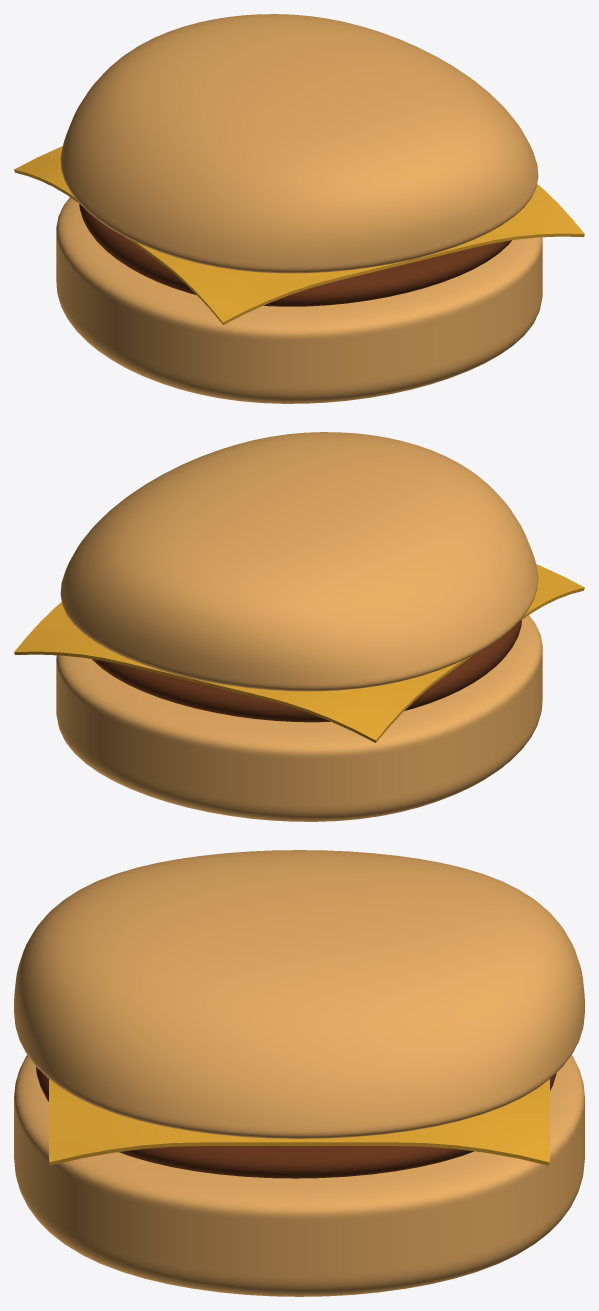
Rendered from hamburger.glb.
The picture shows the model from 3 angles, top to bottom: view 1: azimuth 30°, elevation 25°; view 2: azimuth 150°, elevation 25°; view 3: azimuth 270°, elevation 25°; orthographic projection. The views are drawn at different scales.
Visible parts, largest first — view 1: bunTop, bunBottom, cheese, meat; view 2: bunTop, bunBottom, cheese, meat; view 3: bunTop, bunBottom, cheese, meat.
Part boxes in pixels (bbox=[...]): bunTop: bbox=[60, 14, 538, 273]; bunBottom: bbox=[56, 197, 542, 403]; cheese: bbox=[14, 146, 584, 324]; meat: bbox=[79, 204, 511, 306]; bunTop: bbox=[60, 432, 538, 691]; bunBottom: bbox=[56, 615, 542, 821]; cheese: bbox=[14, 564, 584, 742]; meat: bbox=[92, 620, 521, 722]; bunTop: bbox=[14, 850, 584, 1138]; bunBottom: bbox=[14, 1055, 584, 1296]; cheese: bbox=[49, 1079, 549, 1165]; meat: bbox=[36, 1067, 556, 1178].
Bounding box in the file's own units: 9.09 × 5.32 × 9.09.
